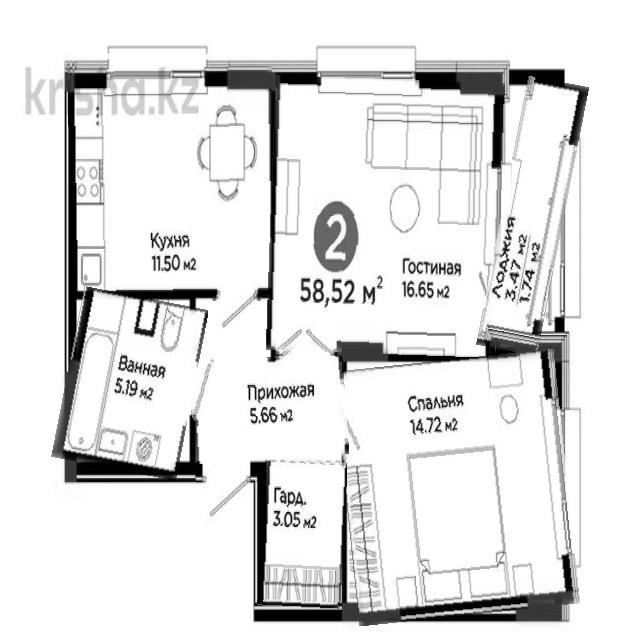balcony: (489, 78, 577, 354)
bathroom: (58, 292, 201, 476)
hallway: (191, 355, 348, 461)
kitchen: (69, 68, 274, 296)
living_room: (269, 77, 503, 356), (339, 355, 574, 621)
other: (259, 459, 346, 608)
